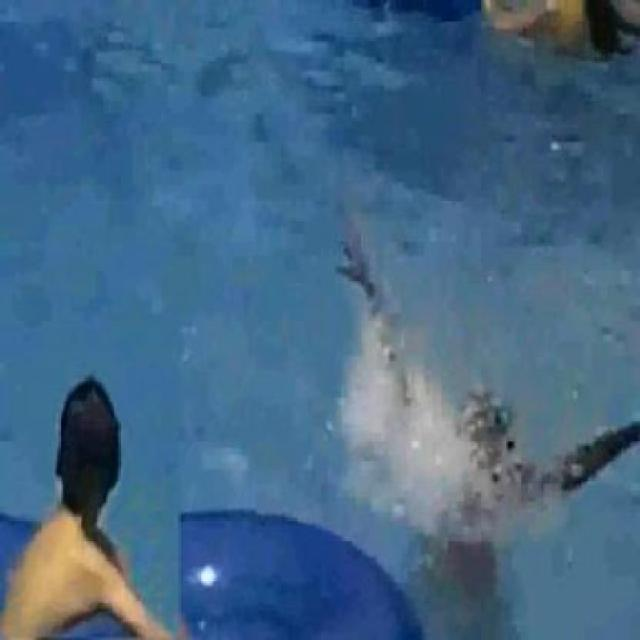drowning: (345, 322, 620, 530), (9, 368, 162, 628)
